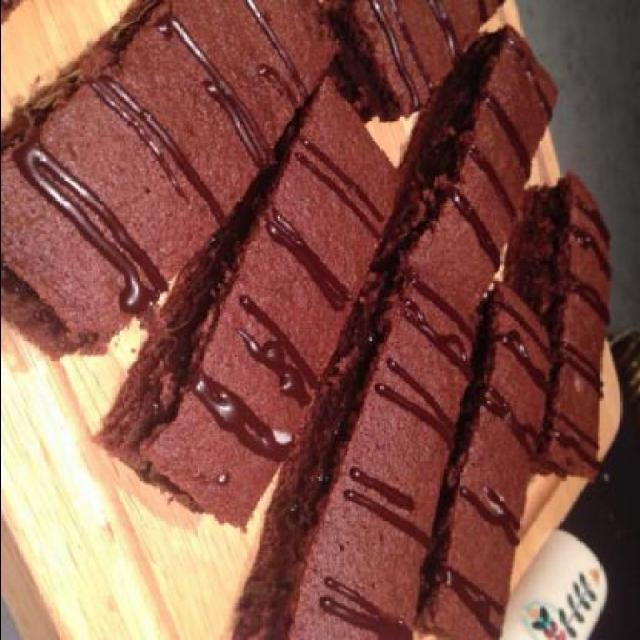Merendine packaged: (105, 89, 401, 540), (1, 1, 334, 354), (247, 287, 473, 639), (424, 290, 556, 639), (402, 40, 552, 300), (514, 186, 608, 480)
